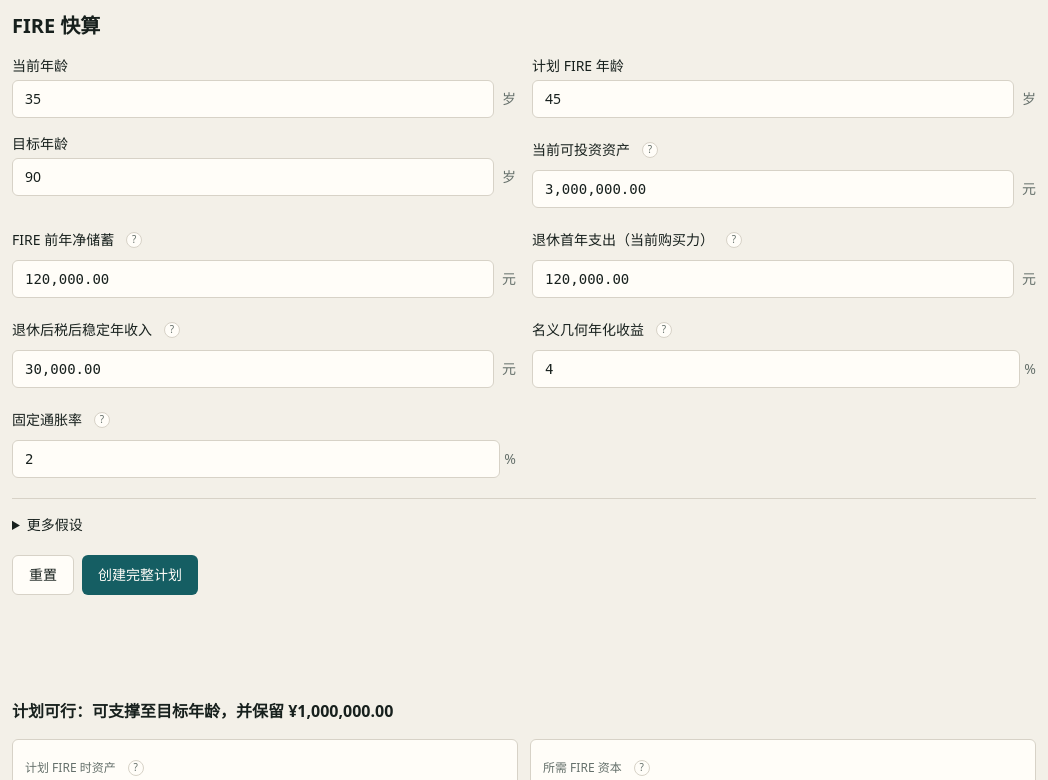
QuickFirePage › hides stale results when input becomes invalid
This screenshot has width=1048, height=780.
Expected: the text "计划可行：可支撑至目标年龄，并保留 ¥1,000,000.00" is shown, [12,700,393,722]
Replace the text in the number field labelled "当前年龄 岁" with "17" at (253, 99), box [12,80,494,118]
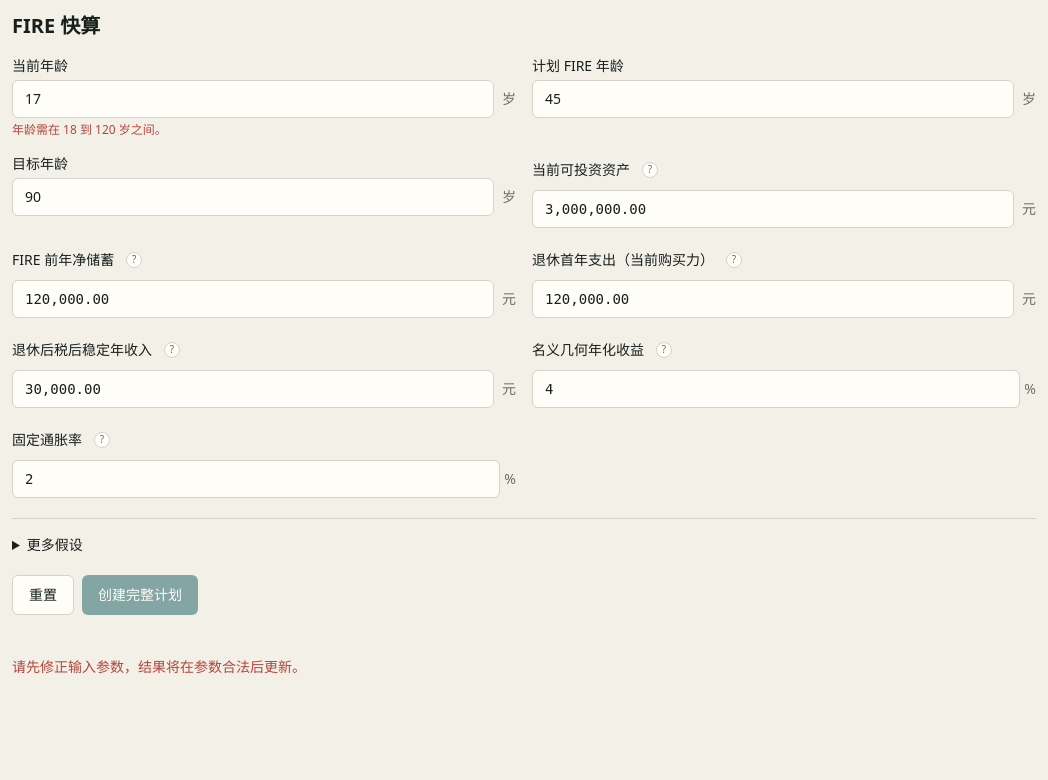
Now the text "请先修正输入参数，结果将在参数合法后更新。" is shown, box [12,657,306,677]
